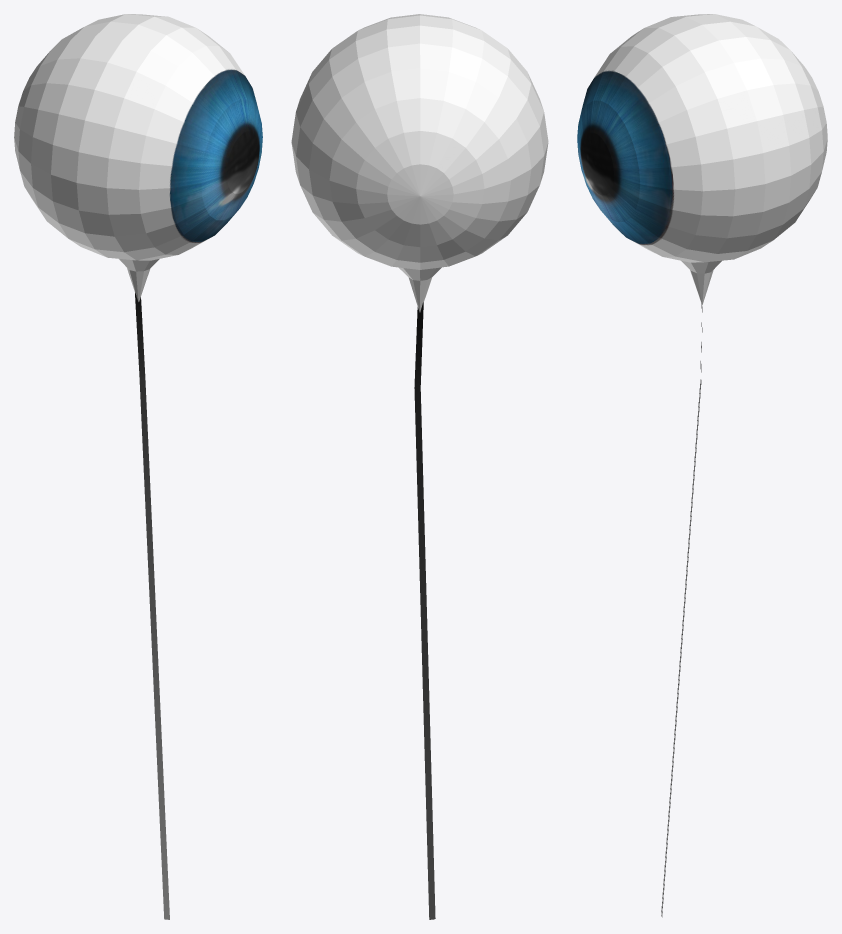
File: Inflatable02.fbx
The picture shows the model from 3 angles, left to right: view 1: azimuth 30°, elevation 25°; view 2: azimuth 150°, elevation 25°; view 3: azimuth 270°, elevation 25°; orthographic projection. The views are drawn at different scales.
Visible parts, largest first — view 1: Empty_Mesh; view 2: Empty_Mesh; view 3: Empty_Mesh.
Part boxes in pixels (box(x1,y1,x2,y2)): Empty_Mesh: box(14, 14, 262, 919); Empty_Mesh: box(291, 14, 548, 919); Empty_Mesh: box(577, 14, 827, 917).
Bounding box in the file's own units: 358 × 1403 × 358.
